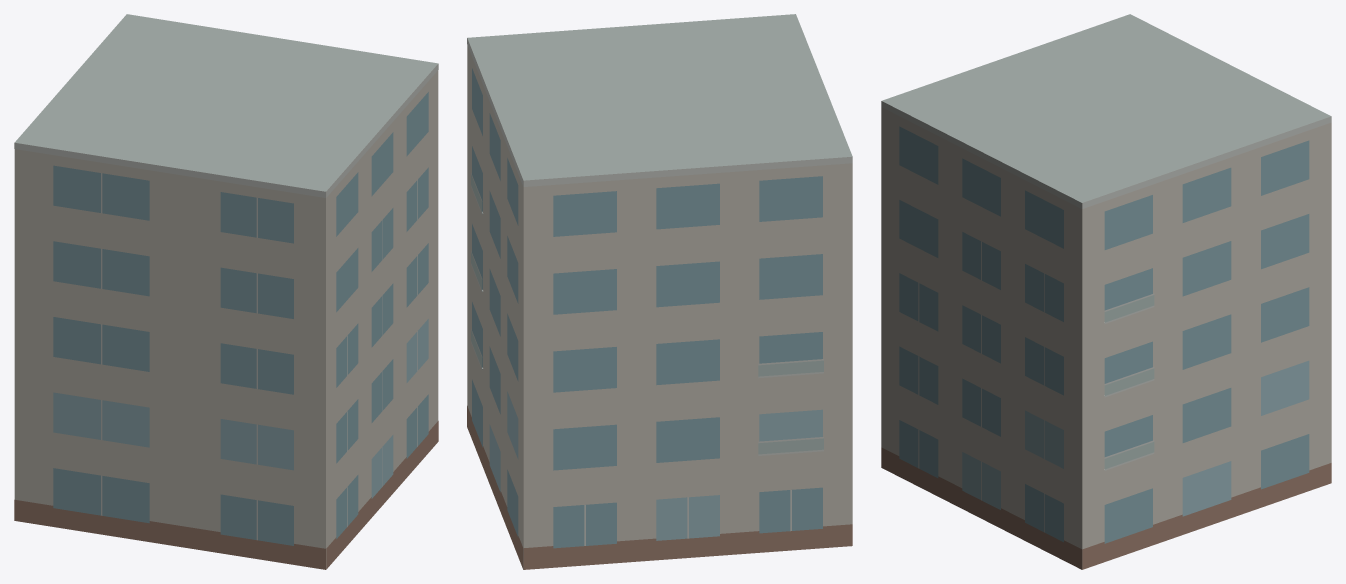
Rendered from survey-upis-32930049.glb.
The picture shows the model from 3 angles, left to right: view 1: azimuth 30°, elevation 25°; view 2: azimuth 150°, elevation 25°; view 3: azimuth 270°, elevation 25°; orthographic projection. The views are drawn at different scales.
Visible parts, largest first — view 1: survey-upis-32930049.tmp; view 2: survey-upis-32930049.tmp; view 3: survey-upis-32930049.tmp.
Part boxes in pixels (left/top/right/bottom): survey-upis-32930049.tmp: left=14, top=14, right=438, bottom=569; survey-upis-32930049.tmp: left=467, top=14, right=852, bottom=569; survey-upis-32930049.tmp: left=881, top=14, right=1331, bottom=569.
Size of the model in its own units: 16.09 by 14.55 by 16.19.
